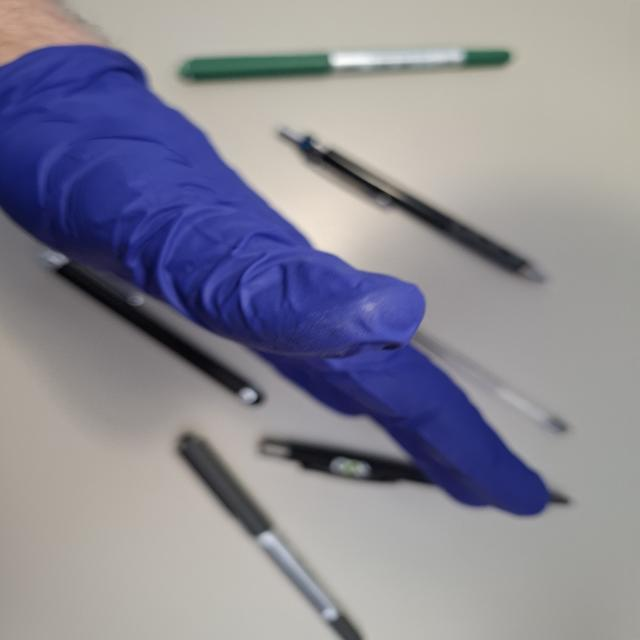glove_on: (2, 43, 560, 523)
